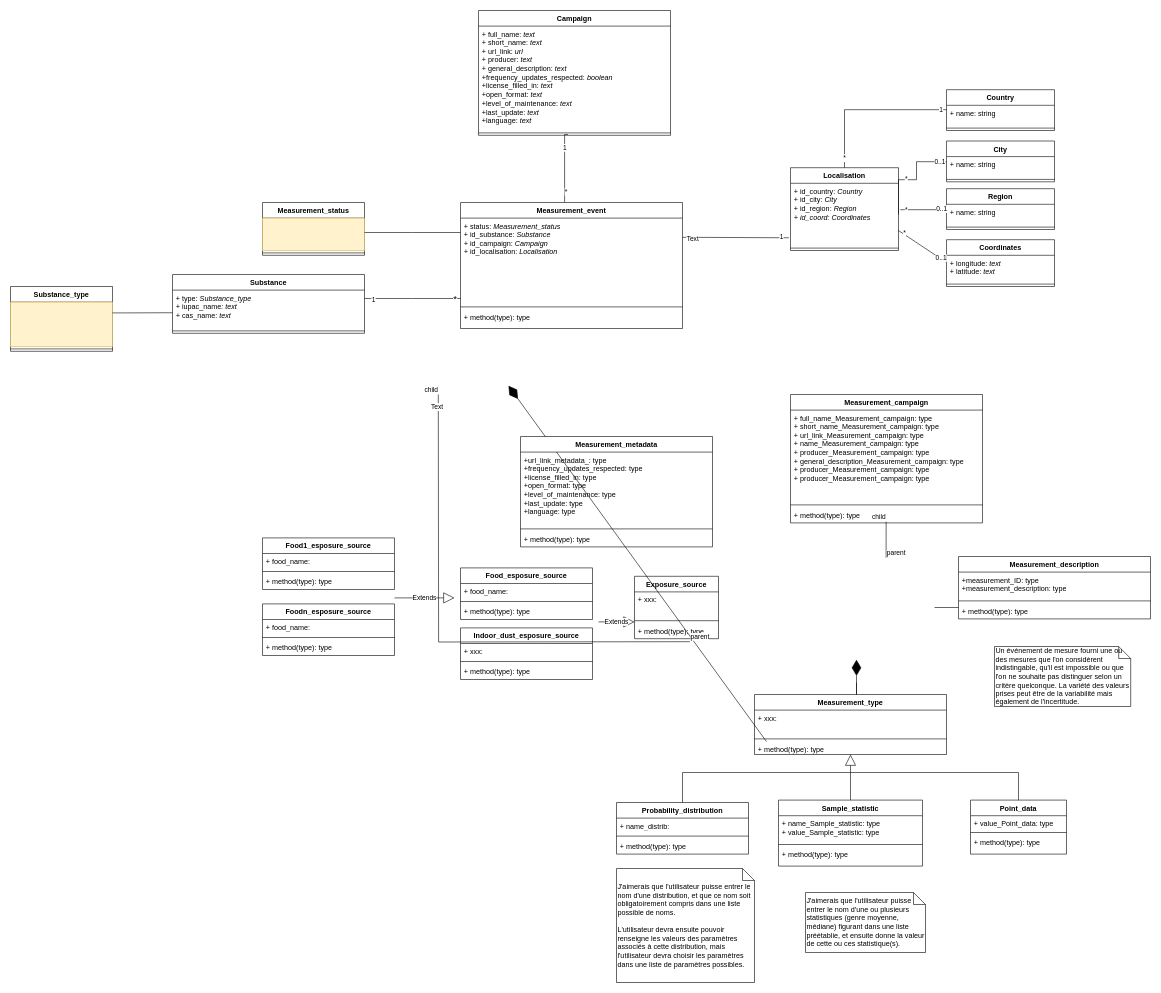
This 1161x993 diagram has some shape labels left out. Here are the shapes that lost their labels. From the top down, the centre of each, then its label:
At (x=313, y=234): "- NO MEASURE - MEASURE IN PROGRESS - MEASURE".
At (x=61, y=324): "- PFAS - PYRETHROIDS - PLASTICIZERS - METALS".
